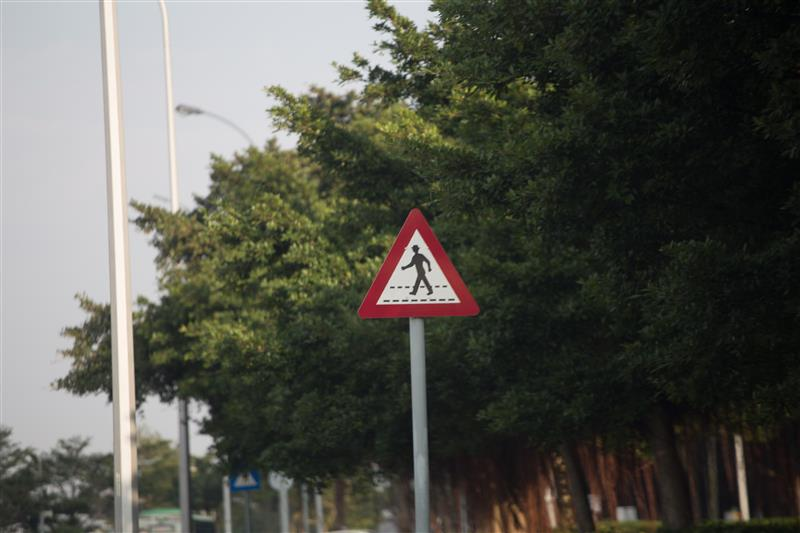pedestrianCrossingR: (356, 207, 484, 320)
